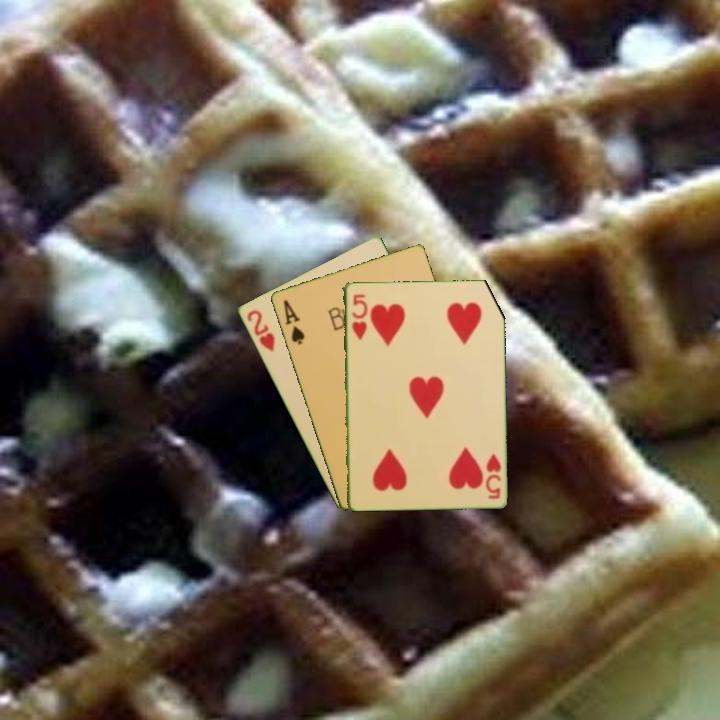2h: (243, 306, 277, 354)
5h: (348, 291, 369, 343), (482, 450, 503, 501)
As: (279, 296, 307, 347)
